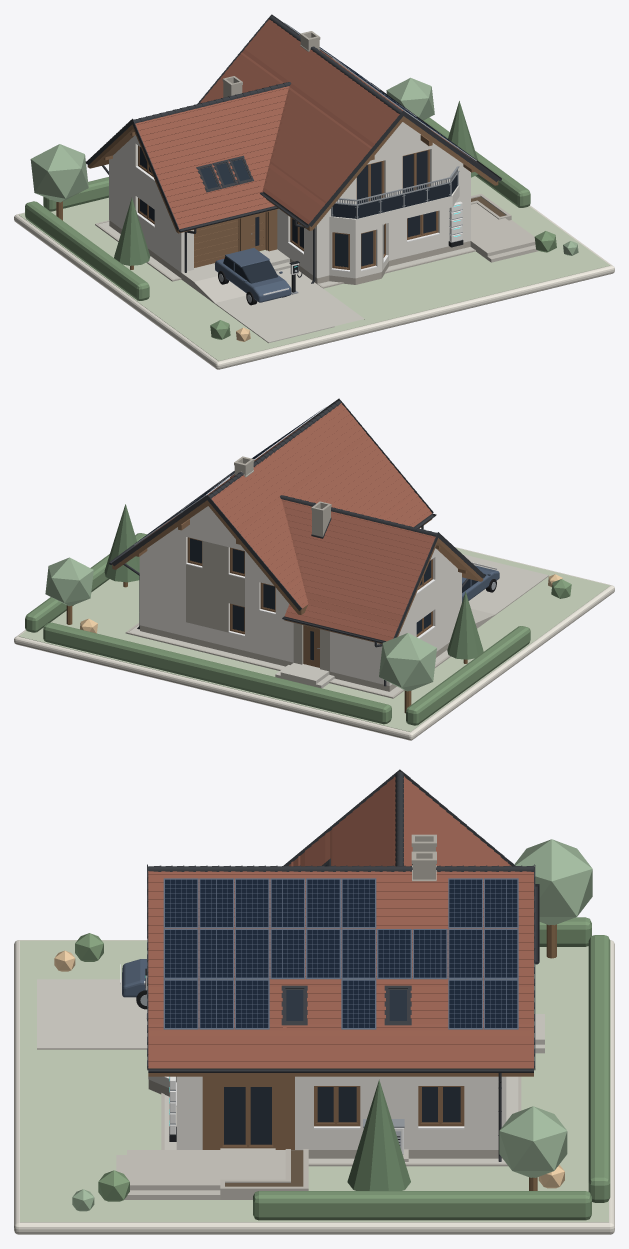
File: house.glb
3 renders of one model, top to bottom at view 1: azimuth 30°, elevation 25°; view 2: azimuth 150°, elevation 25°; view 3: azimuth 270°, elevation 25°, orthographic. The views are drawn at different scales.
Parts seen in each view (by area): view 1: Roof_Tiles, Lawn, wall_exterior, ground_around_house, Plinth, window.011, roof.001, Hedge_West, Tree0_Crown, terrace, roof, barrels.001 (+16 smaller); view 2: Roof_Tiles, wall_exterior, Lawn, Hedge_Back, Plinth, ground_around_house, Hedge_West, roof.001, Tree0_Crown, window.011, roof, cover_sides.001 (+9 smaller); view 3: Lawn, Roof_Tiles, wall_exterior, Plinth, ground_around_house, Hedge_East, window.011, roof, terrace, Hedge_Back, Tree0_Crown, Conifer1 (+35 smaller).
Part boxes in pixels (x1,y1,x2,y2): Roof_Tiles: [135, 19, 469, 224]; Lawn: [19, 176, 610, 361]; wall_exterior: [109, 122, 470, 284]; ground_around_house: [95, 220, 475, 343]; Plinth: [14, 205, 614, 369]; window.011: [135, 145, 439, 271]; roof.001: [87, 86, 289, 233]; Hedge_West: [25, 201, 149, 300]; Tree0_Crown: [30, 144, 88, 202]; terrace: [470, 203, 538, 262]; roof: [242, 49, 498, 230]; barrels.001: [331, 166, 459, 218]; Roof_Tiles: [137, 403, 435, 637]; wall_exterior: [139, 506, 461, 691]; Lawn: [18, 548, 610, 731]; Hedge_Back: [43, 622, 391, 724]; Plinth: [14, 547, 614, 740]; ground_around_house: [125, 554, 548, 698]; Hedge_West: [406, 626, 530, 725]; roof.001: [281, 499, 483, 644]; Tree0_Crown: [379, 633, 436, 691]; window.011: [186, 537, 435, 638]; roof: [112, 433, 432, 614]; cover_sides.001: [112, 398, 484, 638]; Lawn: [20, 940, 608, 1222]; Roof_Tiles: [148, 776, 533, 1061]; wall_exterior: [148, 1076, 506, 1158]; Plinth: [14, 940, 614, 1234]; ground_around_house: [37, 979, 544, 1166]; Hedge_East: [253, 1191, 591, 1220]; window.011: [162, 1076, 464, 1148]; roof: [148, 984, 533, 1076]; terrace: [116, 1148, 285, 1199]; Hedge_Back: [588, 935, 610, 1202]; Tree0_Crown: [514, 839, 592, 925]; Conifer1: [347, 1079, 410, 1190].
Size of the model in its own units: 22 by 9.33 by 19.5.
